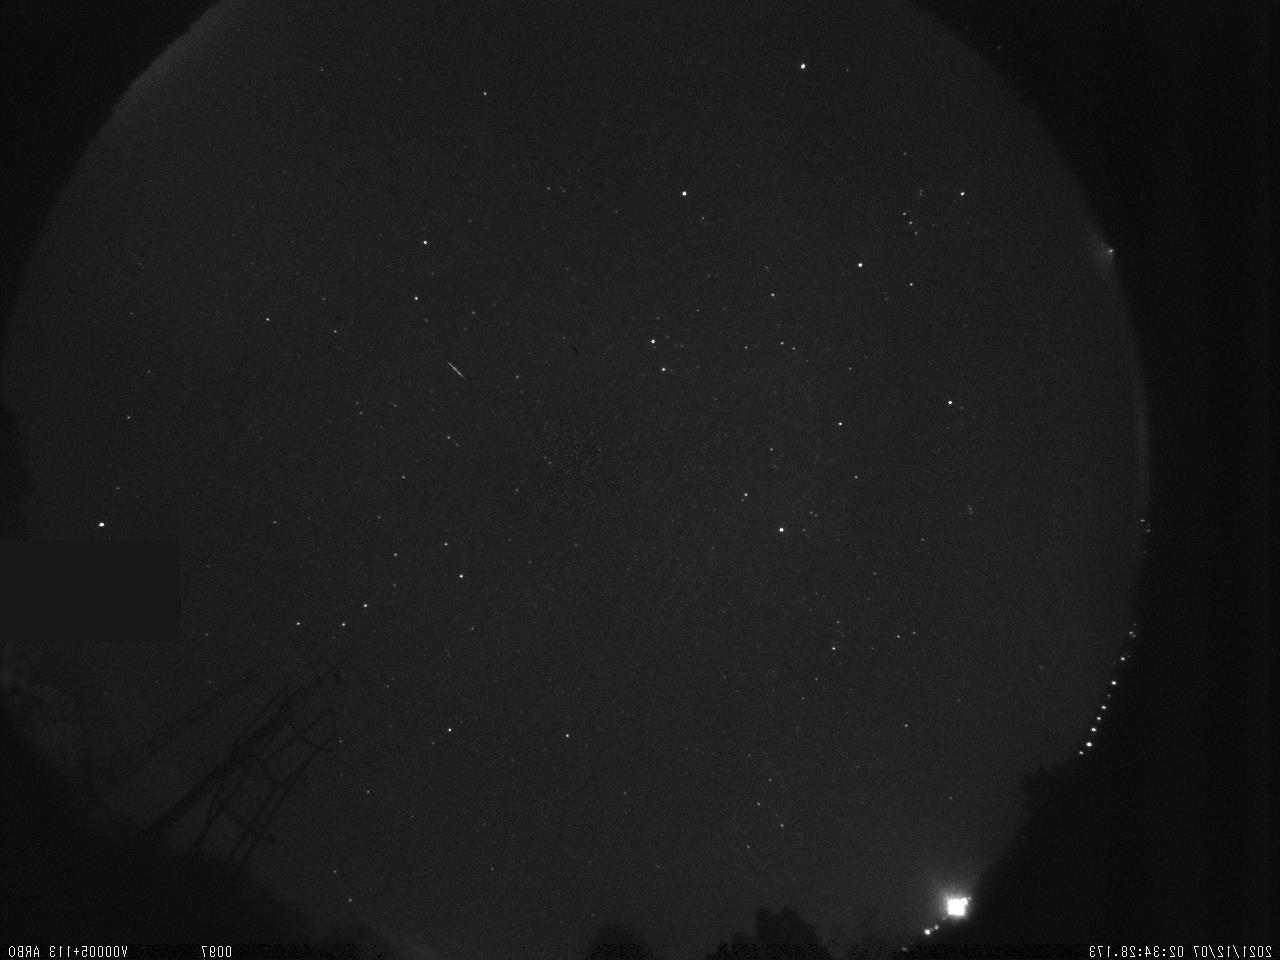meteor: (435, 352, 480, 390)
